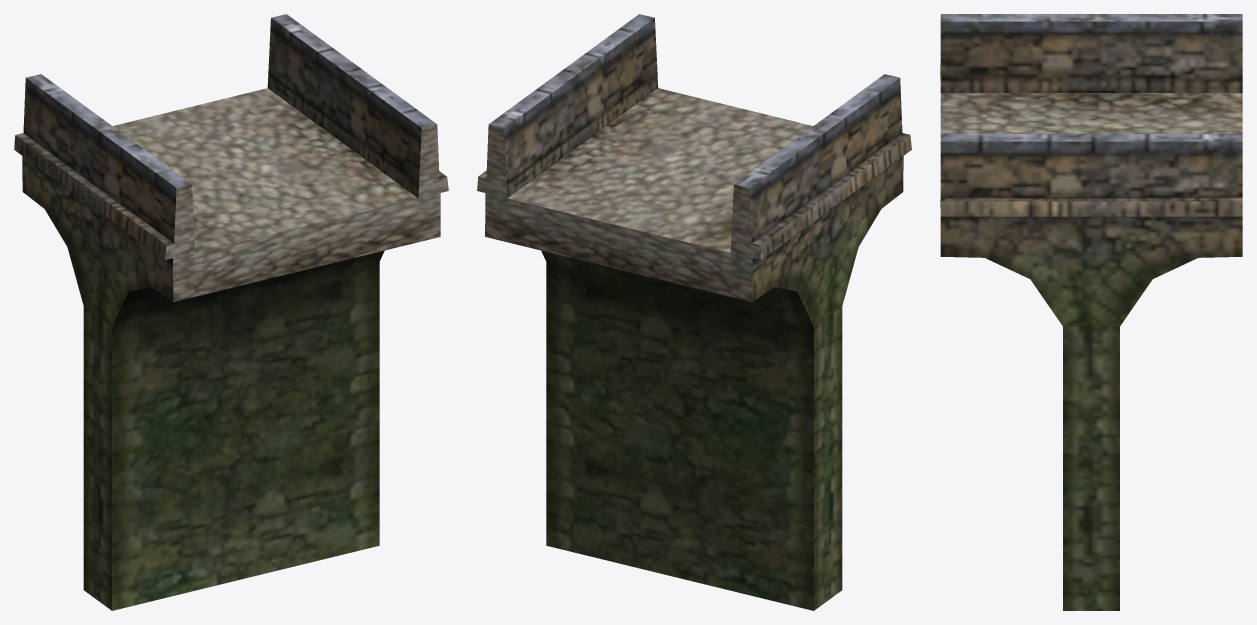
3 views of the same model, side by side, from view 1: azimuth 30°, elevation 25°; view 2: azimuth 150°, elevation 25°; view 3: azimuth 270°, elevation 25° (orthographic).
Visible parts, largest first — view 1: Object02.001; view 2: Object02.001; view 3: Object02.001.
Part boxes in pixels (bbox=[...]): Object02.001: bbox=[14, 14, 448, 610]; Object02.001: bbox=[477, 14, 911, 610]; Object02.001: bbox=[940, 14, 1242, 610].
Bounding box in the file's own units: 446 × 701 × 410.
1 material, 1 textured.
